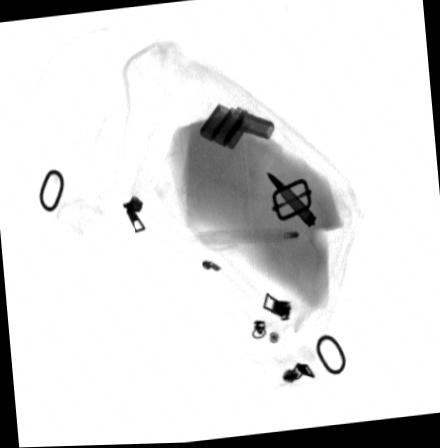Bullet: (263, 171, 316, 231)
